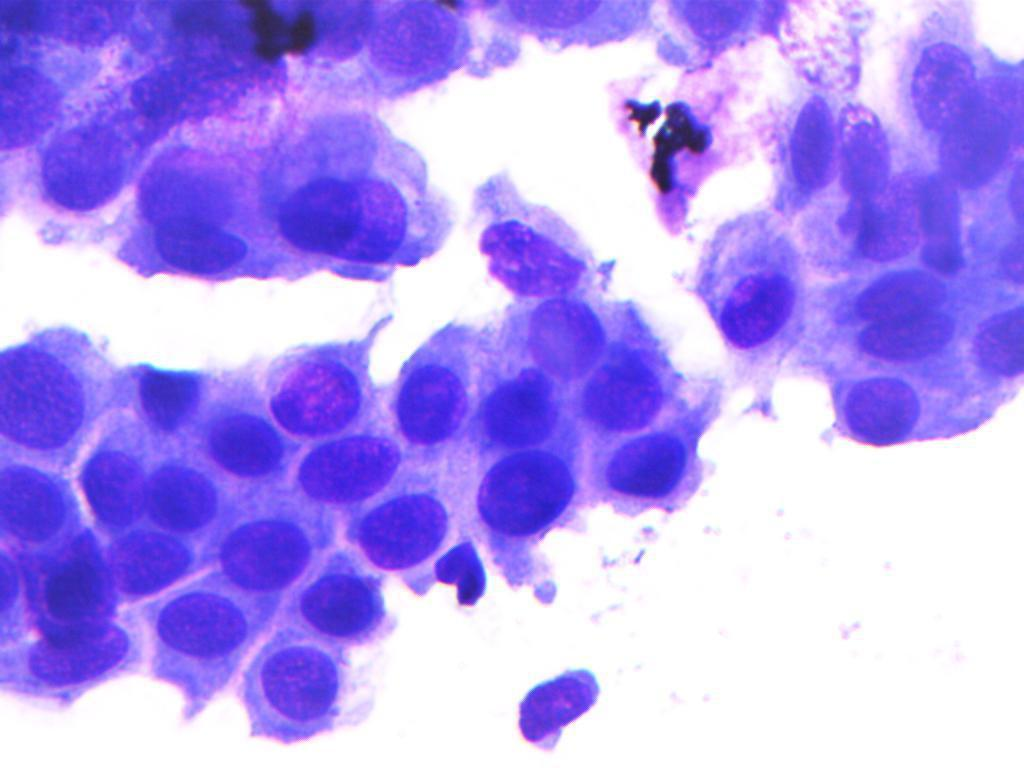artifact: (620, 89, 718, 214), (237, 0, 332, 67)
epithelial: (238, 630, 376, 750), (483, 647, 635, 749), (473, 212, 603, 304), (147, 593, 258, 691), (13, 610, 142, 694), (697, 260, 816, 349), (463, 449, 582, 538), (816, 364, 930, 455), (589, 425, 703, 516), (33, 116, 133, 217), (0, 340, 87, 451), (269, 157, 358, 263), (138, 140, 239, 233), (352, 486, 453, 576), (264, 345, 361, 434), (909, 24, 981, 143), (367, 0, 474, 80), (772, 81, 842, 203), (837, 169, 931, 257), (576, 350, 675, 433), (523, 293, 612, 384), (287, 432, 403, 501), (330, 171, 415, 264), (389, 355, 474, 448), (934, 94, 1013, 193), (477, 369, 568, 454), (211, 514, 312, 590), (290, 567, 391, 643), (1, 452, 79, 550), (23, 543, 118, 623), (146, 211, 255, 280), (141, 451, 223, 537), (99, 522, 194, 596), (125, 359, 215, 431), (833, 99, 891, 209), (79, 443, 153, 529), (852, 269, 959, 320), (204, 411, 283, 480), (969, 296, 1024, 391), (852, 314, 958, 357)
